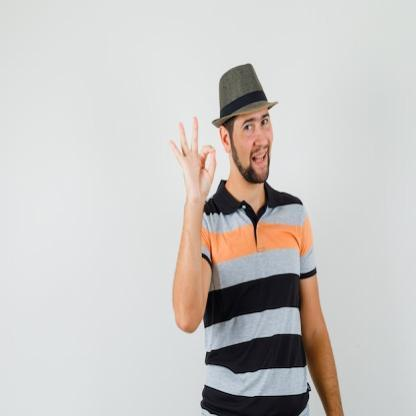ok: (166, 112, 218, 210)
